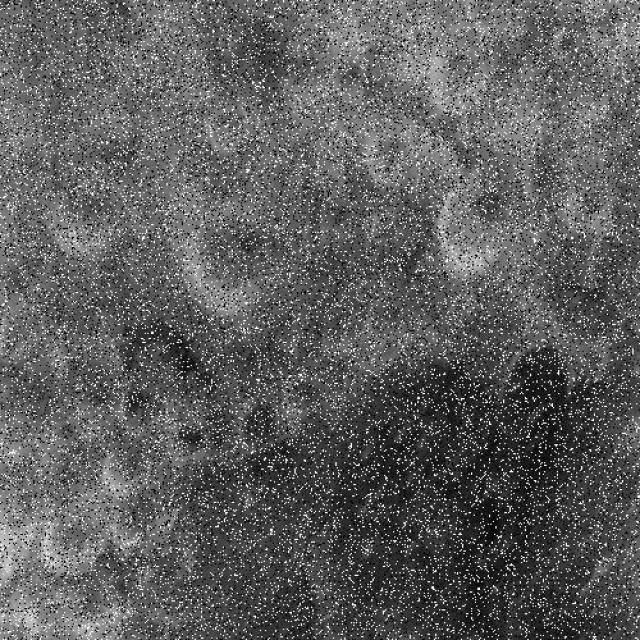crater: (185, 200, 277, 316), (436, 174, 507, 286), (50, 172, 119, 256), (428, 44, 487, 120), (45, 511, 103, 577), (207, 101, 260, 159), (0, 300, 45, 368), (104, 447, 148, 498), (238, 405, 280, 453), (492, 0, 546, 37)
